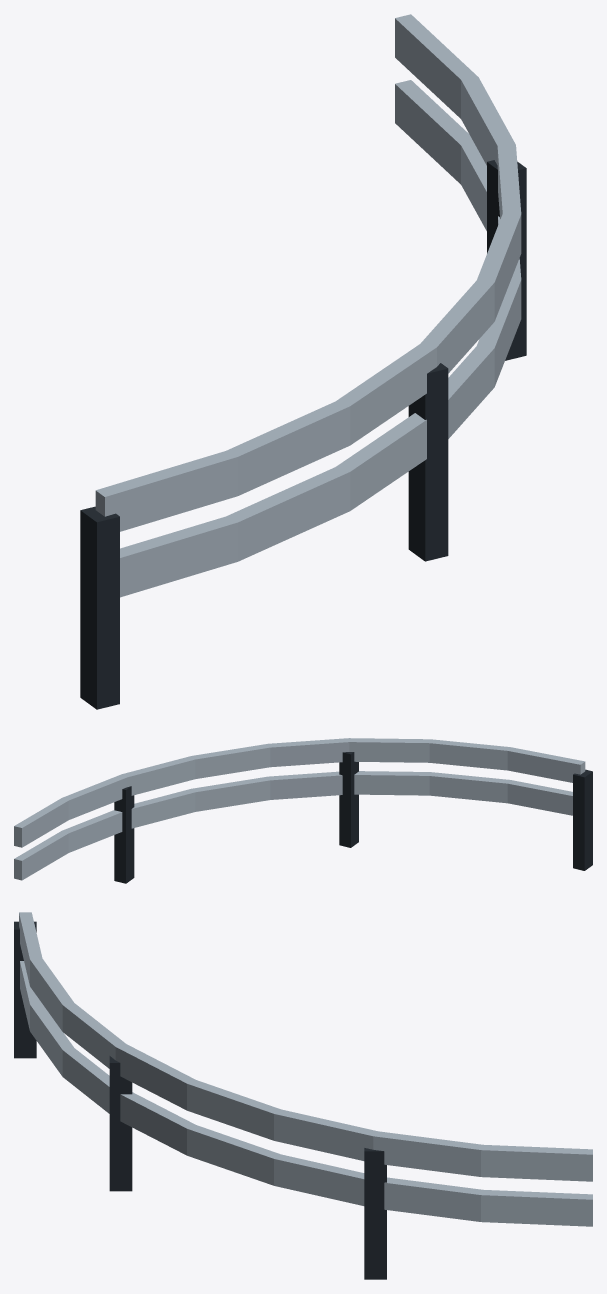
Rendered from guardrail_corner_90.glb.
3 views of the same model, one above another, from view 1: azimuth 30°, elevation 25°; view 2: azimuth 150°, elevation 25°; view 3: azimuth 270°, elevation 25° (orthographic). The views are drawn at different scales.
Parts seen in each view (by area): view 1: guardrail_corner_90__static; view 2: guardrail_corner_90__static; view 3: guardrail_corner_90__static.
Part boxes in pixels (x1,y1,x2,y2): guardrail_corner_90__static: (80,14,526,709); guardrail_corner_90__static: (14,738,592,883); guardrail_corner_90__static: (14,912,592,1279).
Size of the model in its own units: 4.11 by 1.11 by 4.08.
